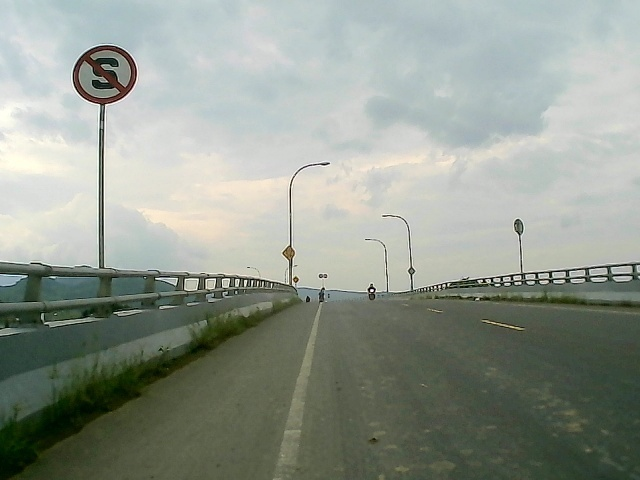Dilarang berhenti: (71, 43, 139, 107)
